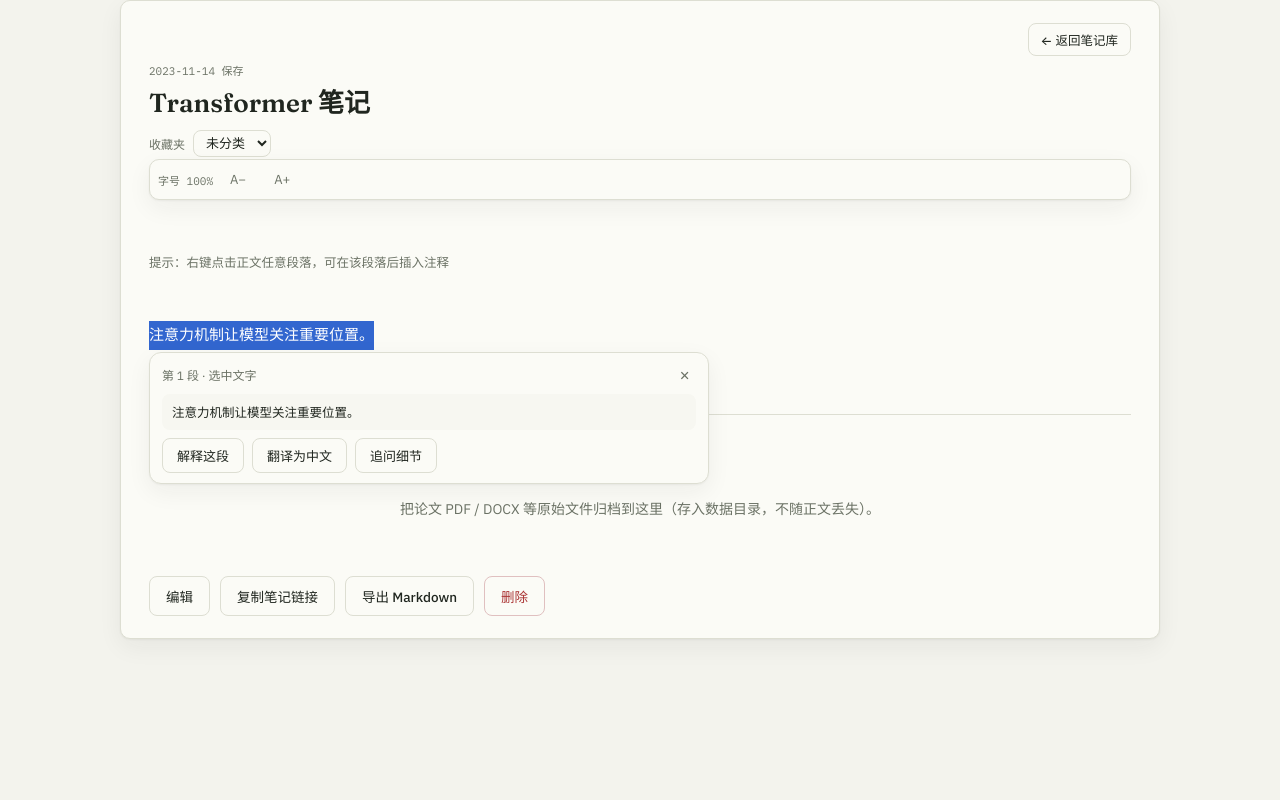
Test: NoteView 选中段落 Agent 操作 › 选中文本后弹出工具条并执行“解释这段”
Expected: the text "注意力机制让模型关注重要位置。" below "提示：右键点击正文任意段落，可在该段落后插入注释" is shown, [149,326,374,344]
Expected: the dialog named "选中段落操作" is shown, [149,352,709,484]
Click the button "解释这段": coordinates (203, 456) [162,438,244,474]
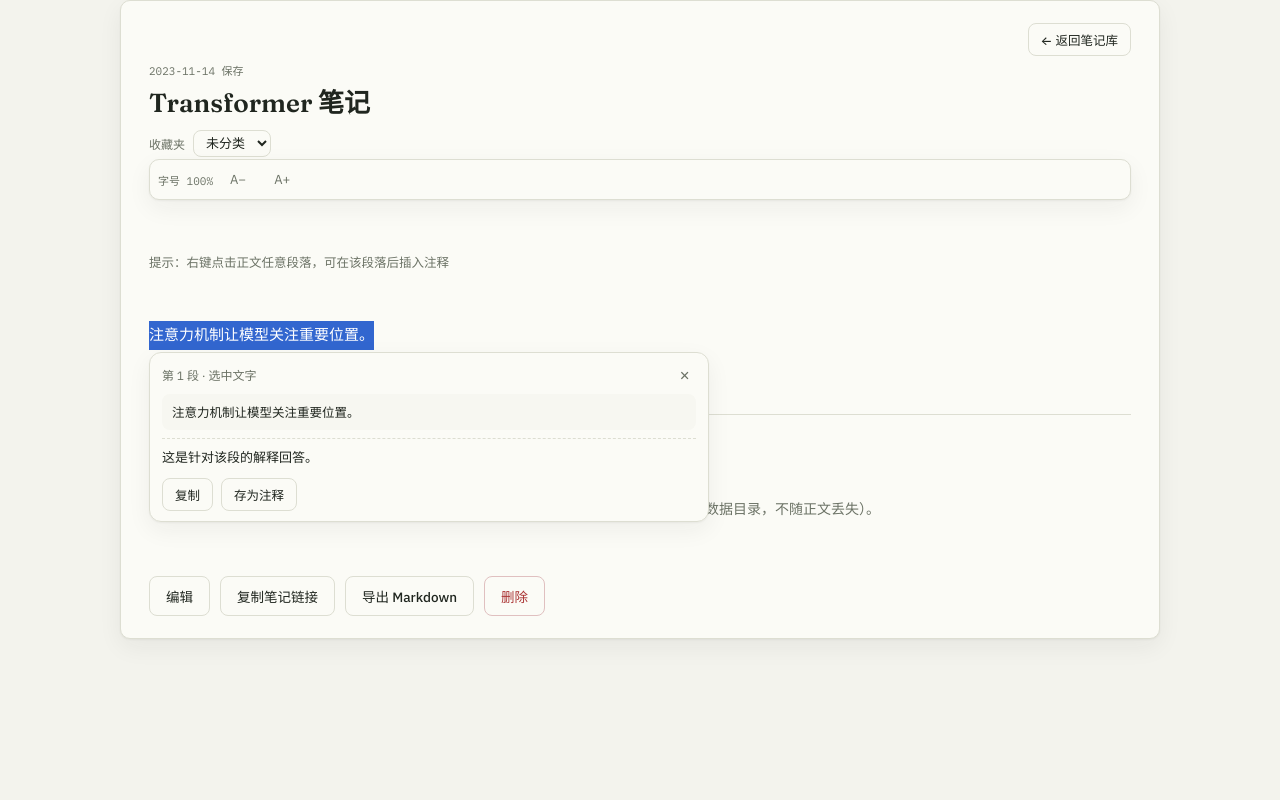
Expected: the text "这是针对该段的解释回答。" is shown, [162,450,318,466]
